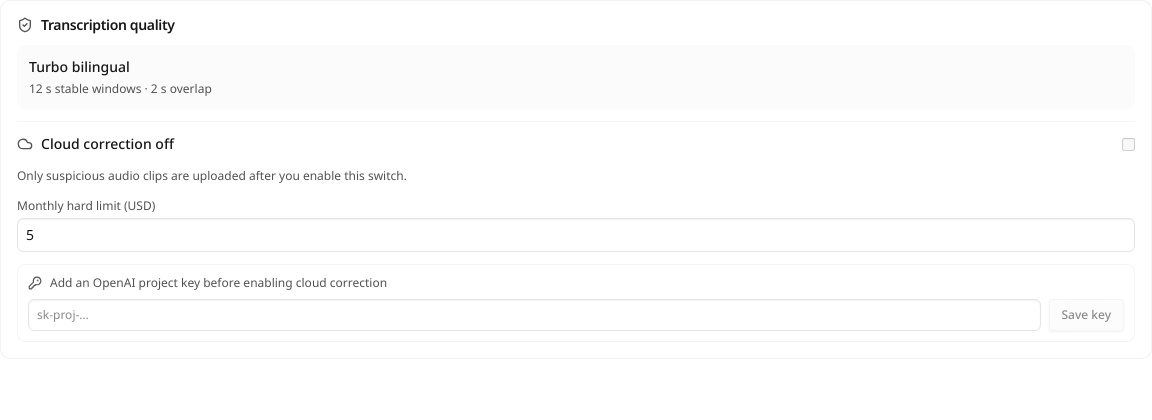
TranscriptionQualityCard › enables cloud correction with a ten-dollar hard limit
Replace the text in the number field labelled "Monthly hard limit (USD)" with "10". click: coordinates (576, 235)
box: [17, 218, 1135, 252]
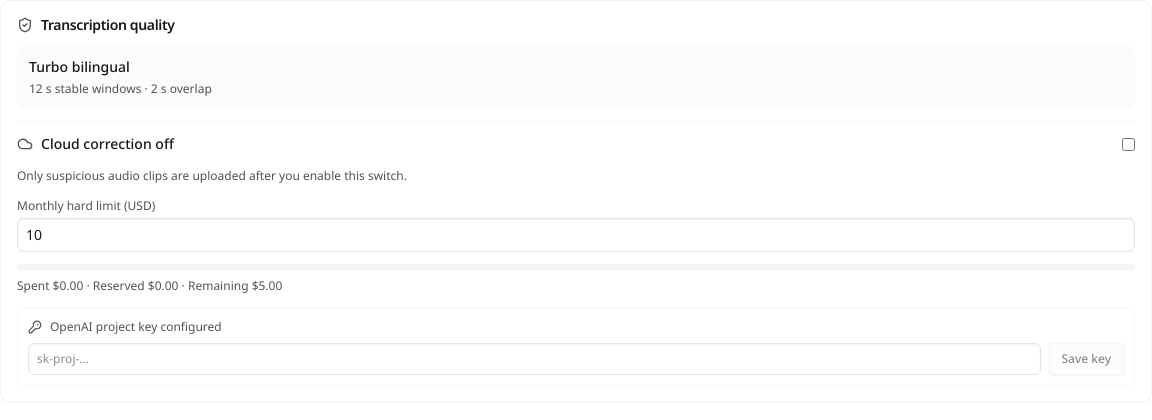
Click the checkbox named "Enable cloud correction". click: coordinates (1128, 144)
box: [1122, 138, 1135, 151]
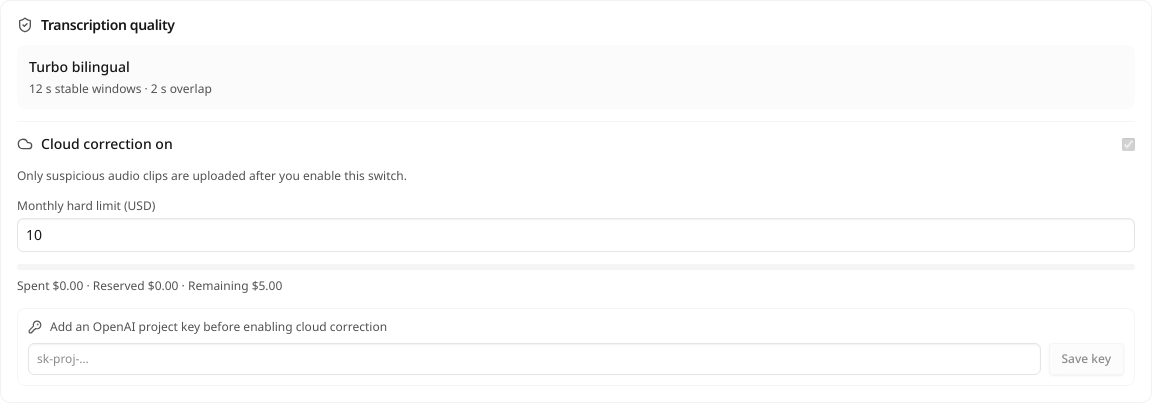
expect the text "Cloud correction on" is shown: met, box [41, 134, 173, 154]
